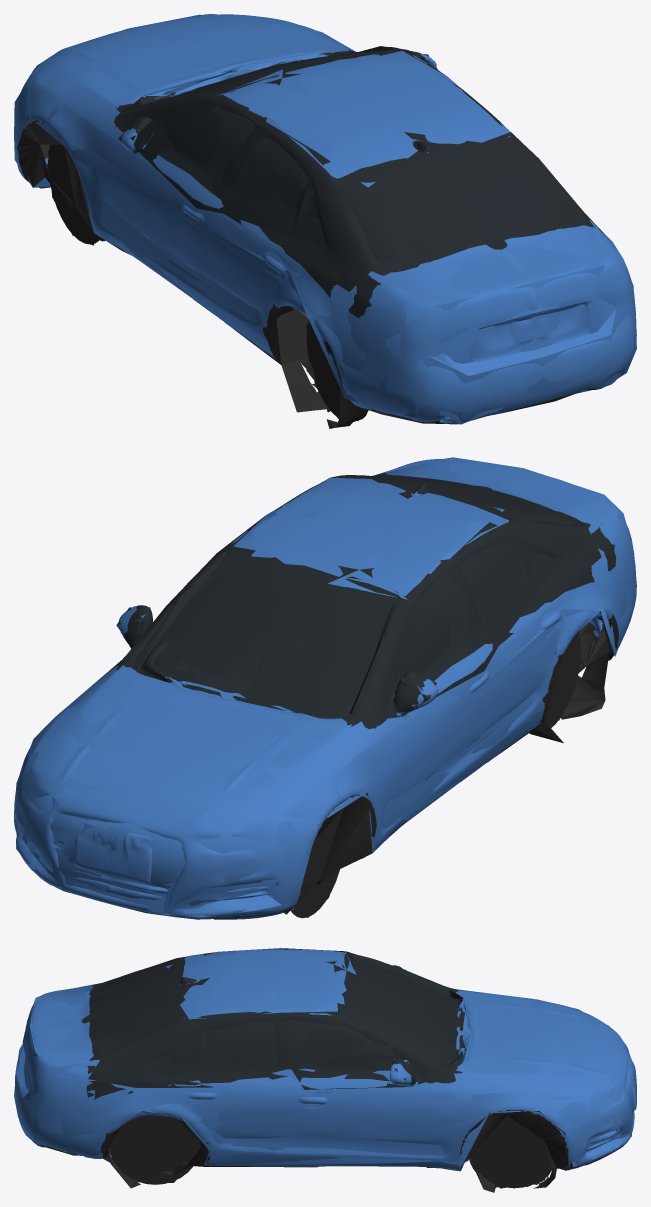
The model's file is audi-a4.glb.
The picture shows the model from 3 angles, top to bottom: view 1: azimuth 30°, elevation 25°; view 2: azimuth 150°, elevation 25°; view 3: azimuth 270°, elevation 25°; orthographic projection. The views are drawn at different scales.
Visible parts, largest first — view 1: body, far; view 2: body, far; view 3: body, far.
Part boxes in pixels (bbox=[...]): body: bbox=[14, 14, 636, 428]; far: bbox=[14, 14, 636, 428]; body: bbox=[14, 459, 636, 919]; far: bbox=[15, 457, 636, 917]; body: bbox=[15, 949, 636, 1192]; far: bbox=[14, 948, 634, 1191].
Size of the model in its own units: 1.99 by 1.44 by 4.73.
